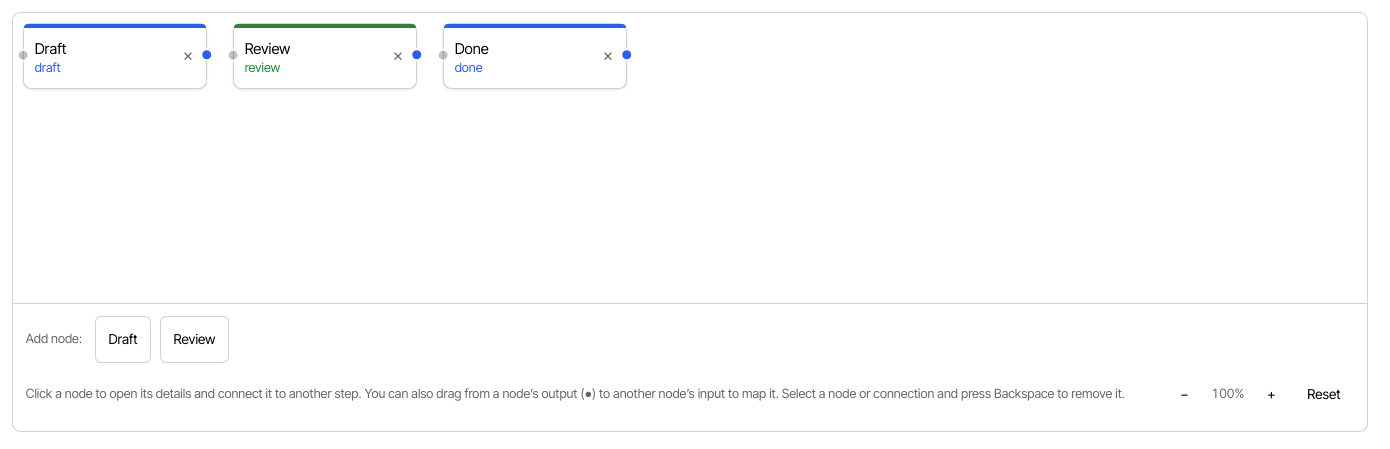
Test case: WorkflowMapper branches4 › zooms out and resets the view
This screenshot has width=1390, height=449.
Step 1. Click the button named "Zoom out" → (1184, 395), box [1167, 372, 1202, 418]
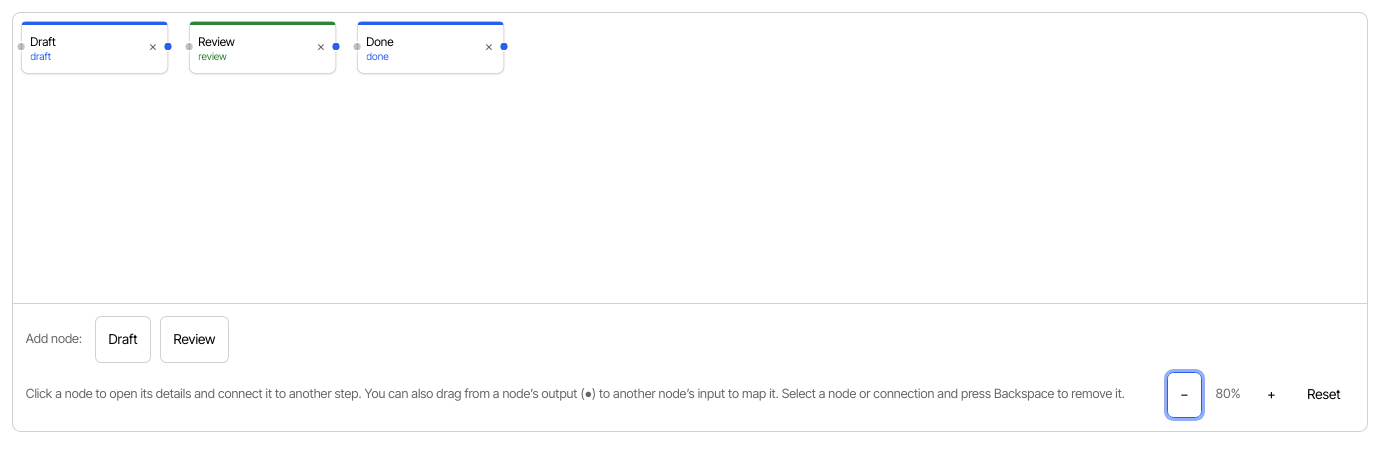
Now the text "80%" is shown, box [1215, 386, 1240, 401]
Step 2. Click the button "Reset" → (1324, 395), box [1294, 372, 1354, 418]
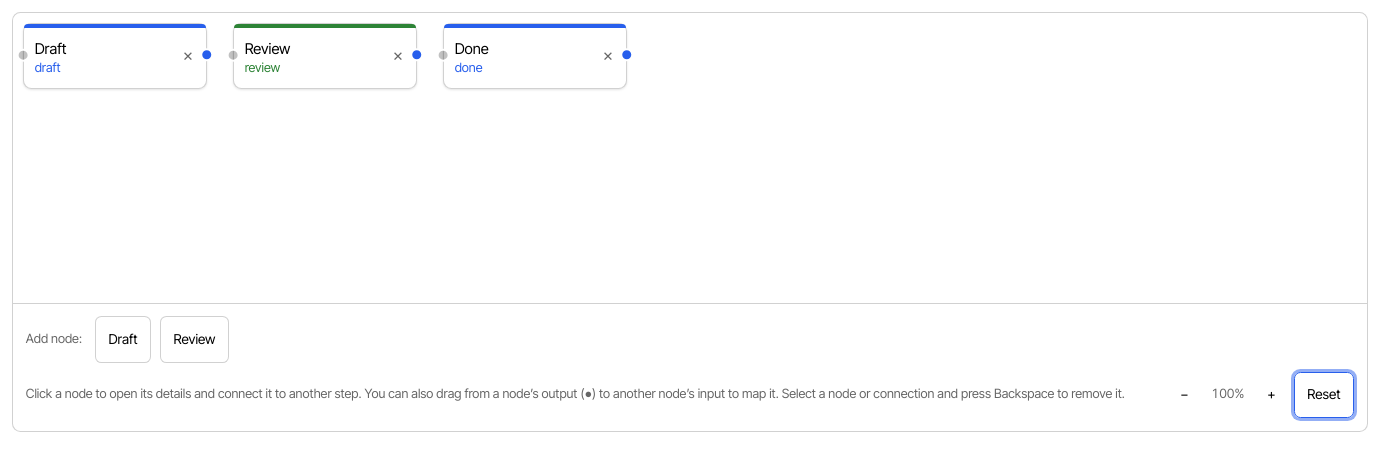
Now the text "100%" is shown, box [1212, 386, 1244, 401]
